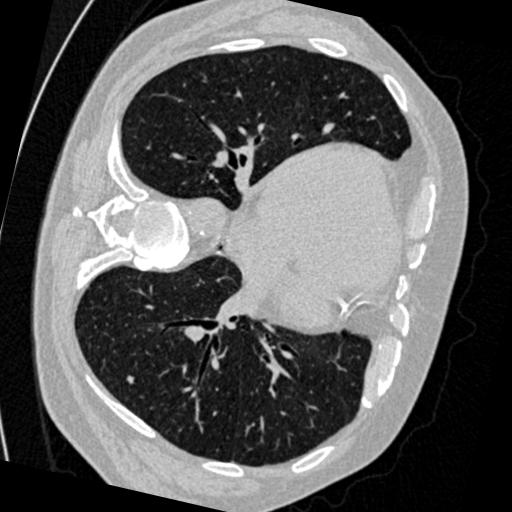nodule: (125, 375, 139, 389)
